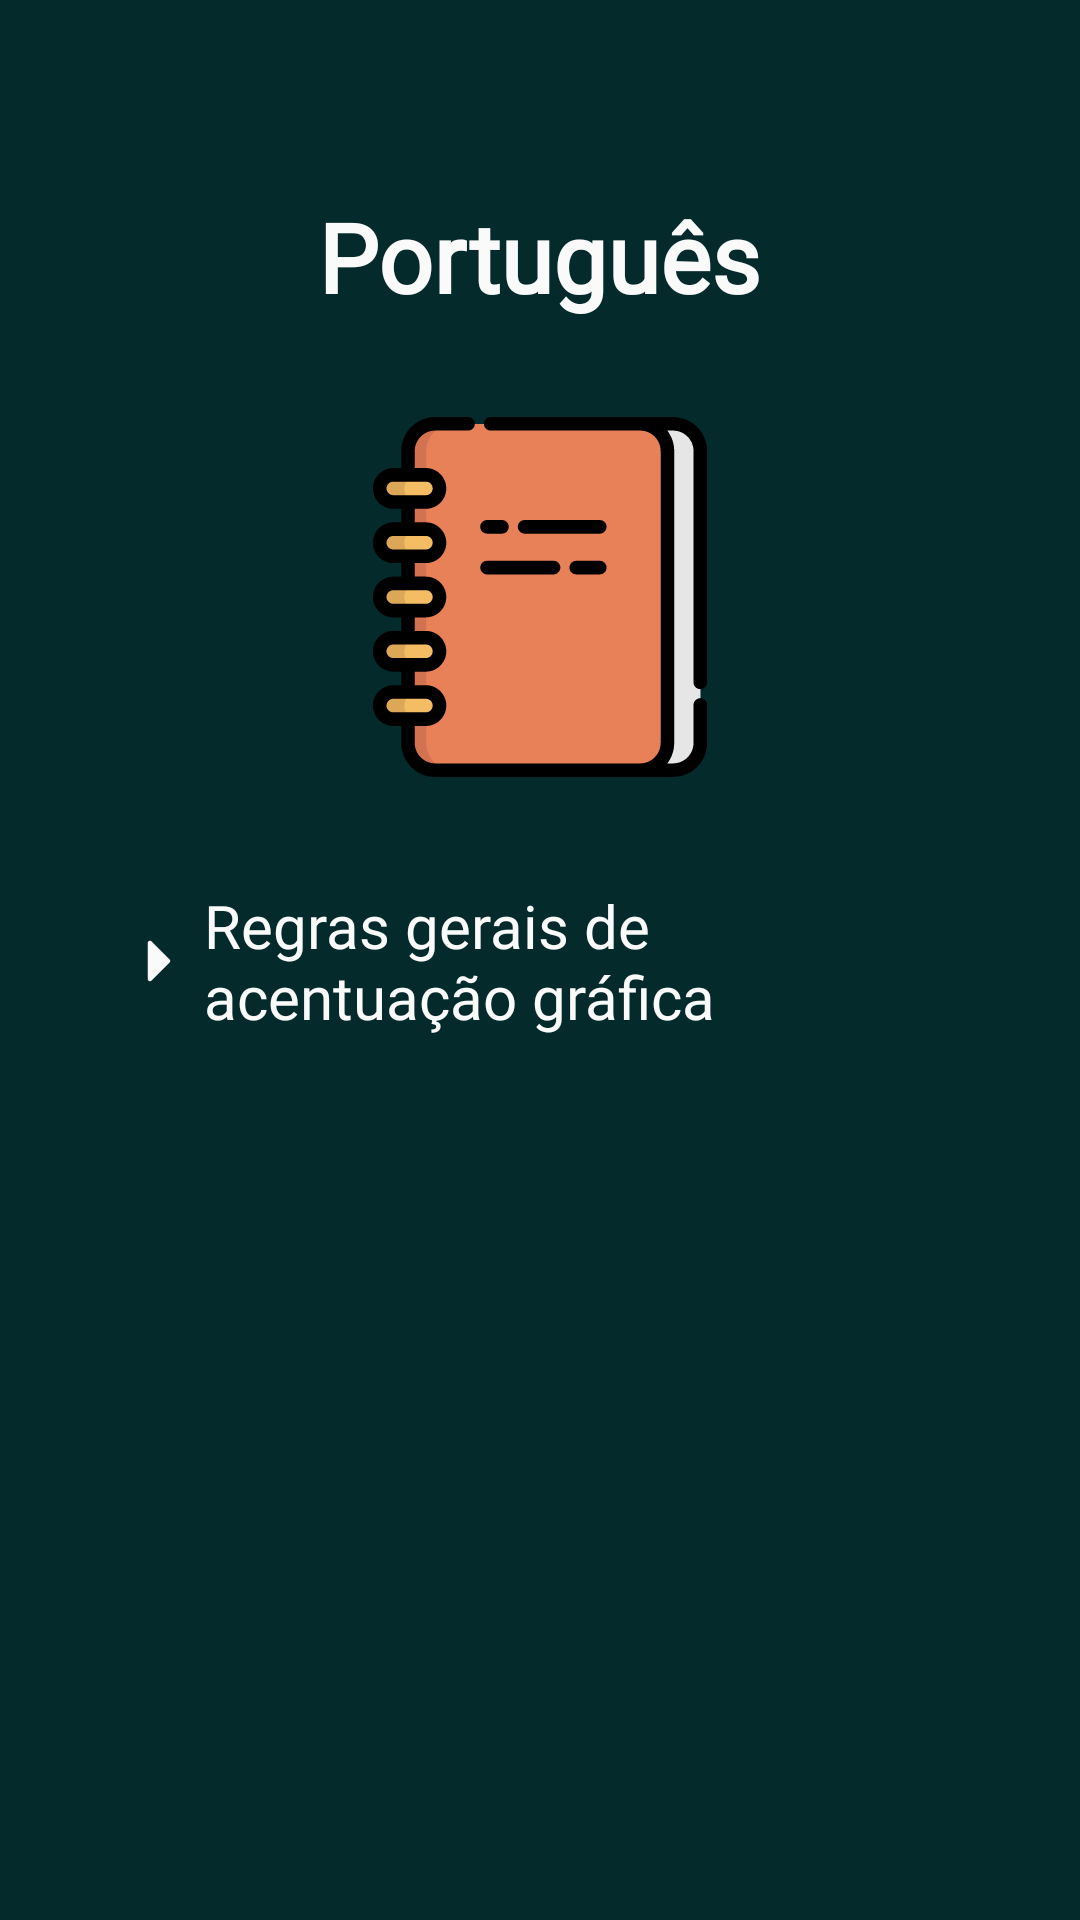

Icons on this 1080px x 1920px Android screen, each with its box as (left=x1, top=y1, right=x2, bottom=y2):
arrow right: (left=147, top=940, right=171, bottom=982)
